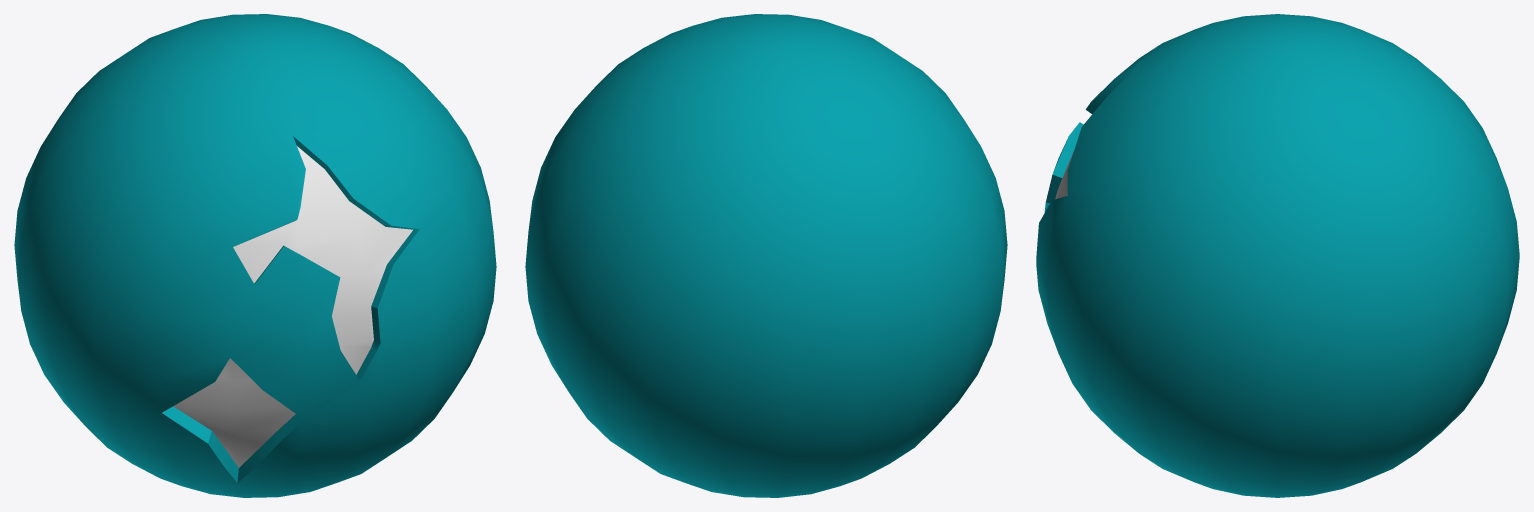
The model's file is Blue Gem.fbx.
3 renders of one model, left to right at view 1: azimuth 30°, elevation 25°; view 2: azimuth 150°, elevation 25°; view 3: azimuth 270°, elevation 25°, orthographic.
Visible parts, largest first — view 1: pSphere1; view 2: pSphere1; view 3: pSphere1.
Part boxes in pixels (x1,y1,x2,y2): pSphere1: [14, 14, 496, 497]; pSphere1: [525, 14, 1007, 497]; pSphere1: [1036, 14, 1519, 497].
Bounding box in the file's own units: 2 × 2 × 2.
